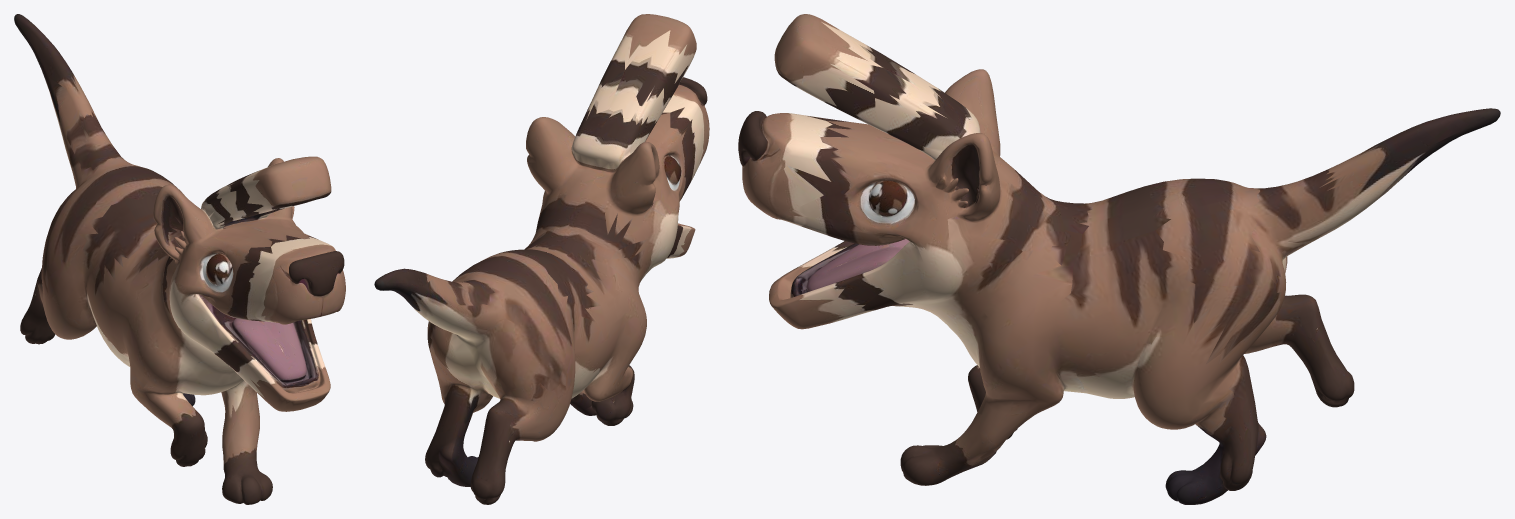
3 renders of one model, left to right at view 1: azimuth 30°, elevation 25°; view 2: azimuth 150°, elevation 25°; view 3: azimuth 270°, elevation 25°, orthographic. The views are drawn at different scales.
Visible parts, largest first — view 1: Mesh_0; view 2: Mesh_0; view 3: Mesh_0.
Boxes of the visible parts, box(x1,y1,x2,y2) form: Mesh_0: box(14, 14, 345, 504); Mesh_0: box(374, 14, 709, 504); Mesh_0: box(738, 14, 1500, 504).
Size of the model in its own units: 0.5159 by 1.24 by 1.9.
1 material, 1 textured.
